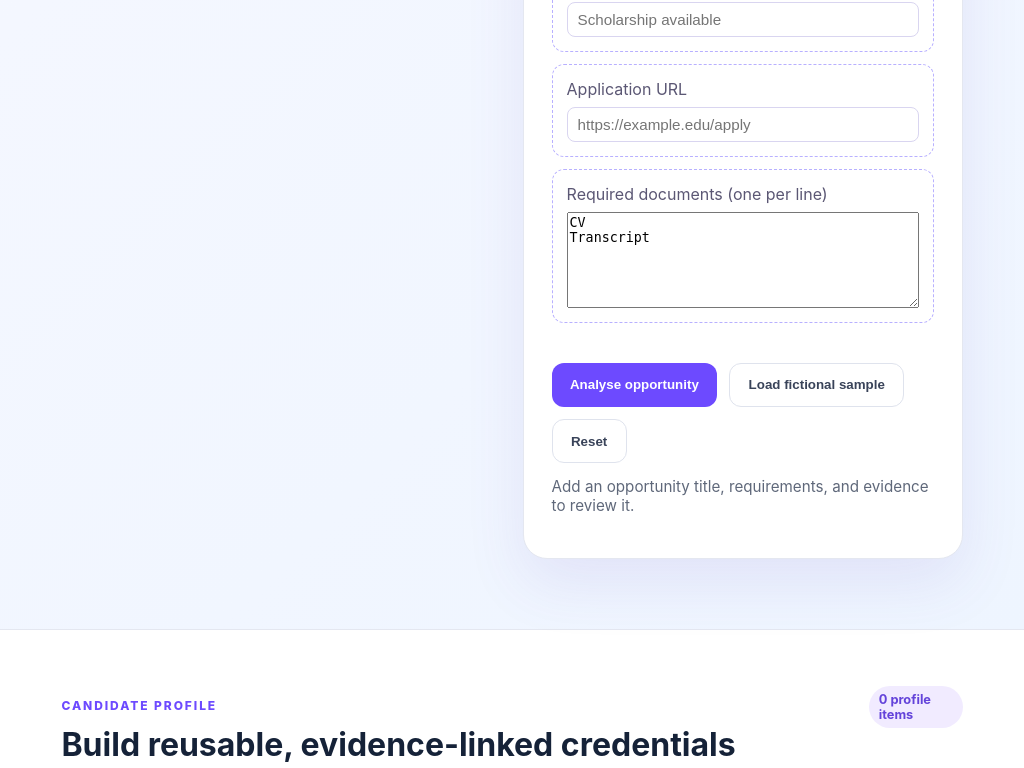
Test: ApplyLens UI › keeps analysis visible and reports quota failures when persistence is rejected
The width and height of the screenshot is (1024, 768).
(page scrolled)
Click the button "Analyse opportunity" at (634, 385), box [552,363,717,407]
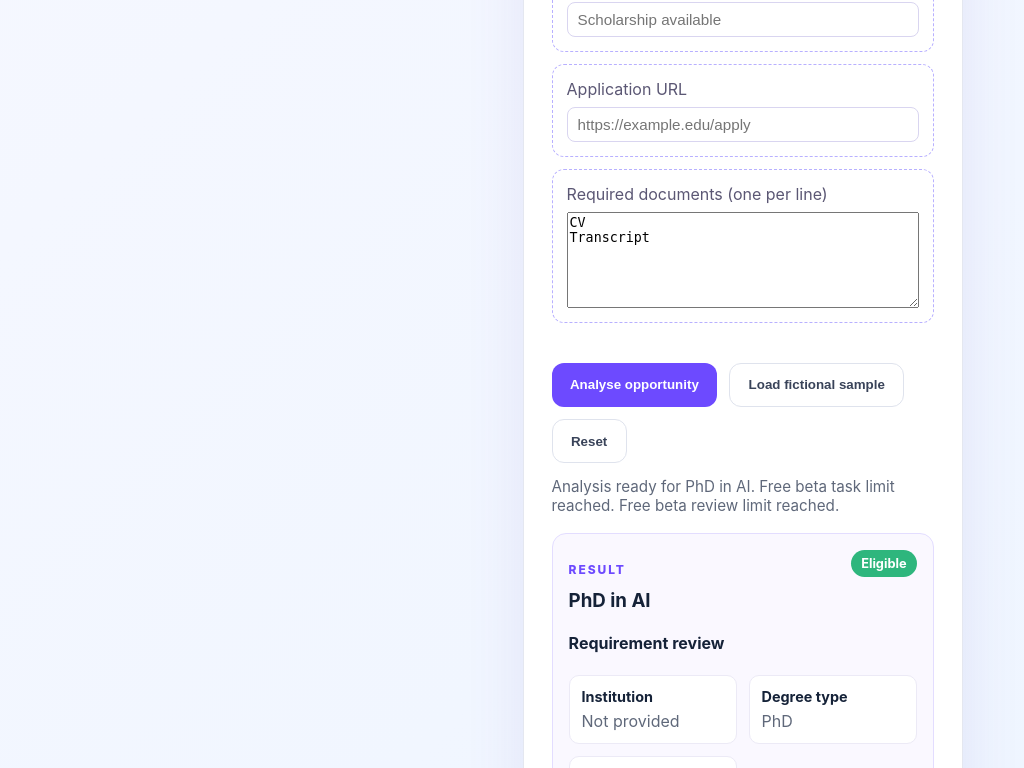
Result: the text "Analysis ready for PhD in AI. Free beta task limit reached. Free beta review limit reached." is shown at [552,477,895,515]
Result: the text "Eligible" is shown at [851,550,916,577]
